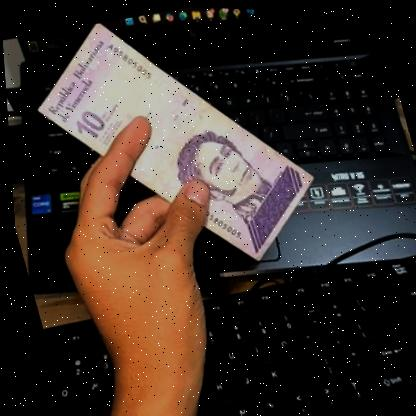vef_front: (13, 0, 332, 298)
